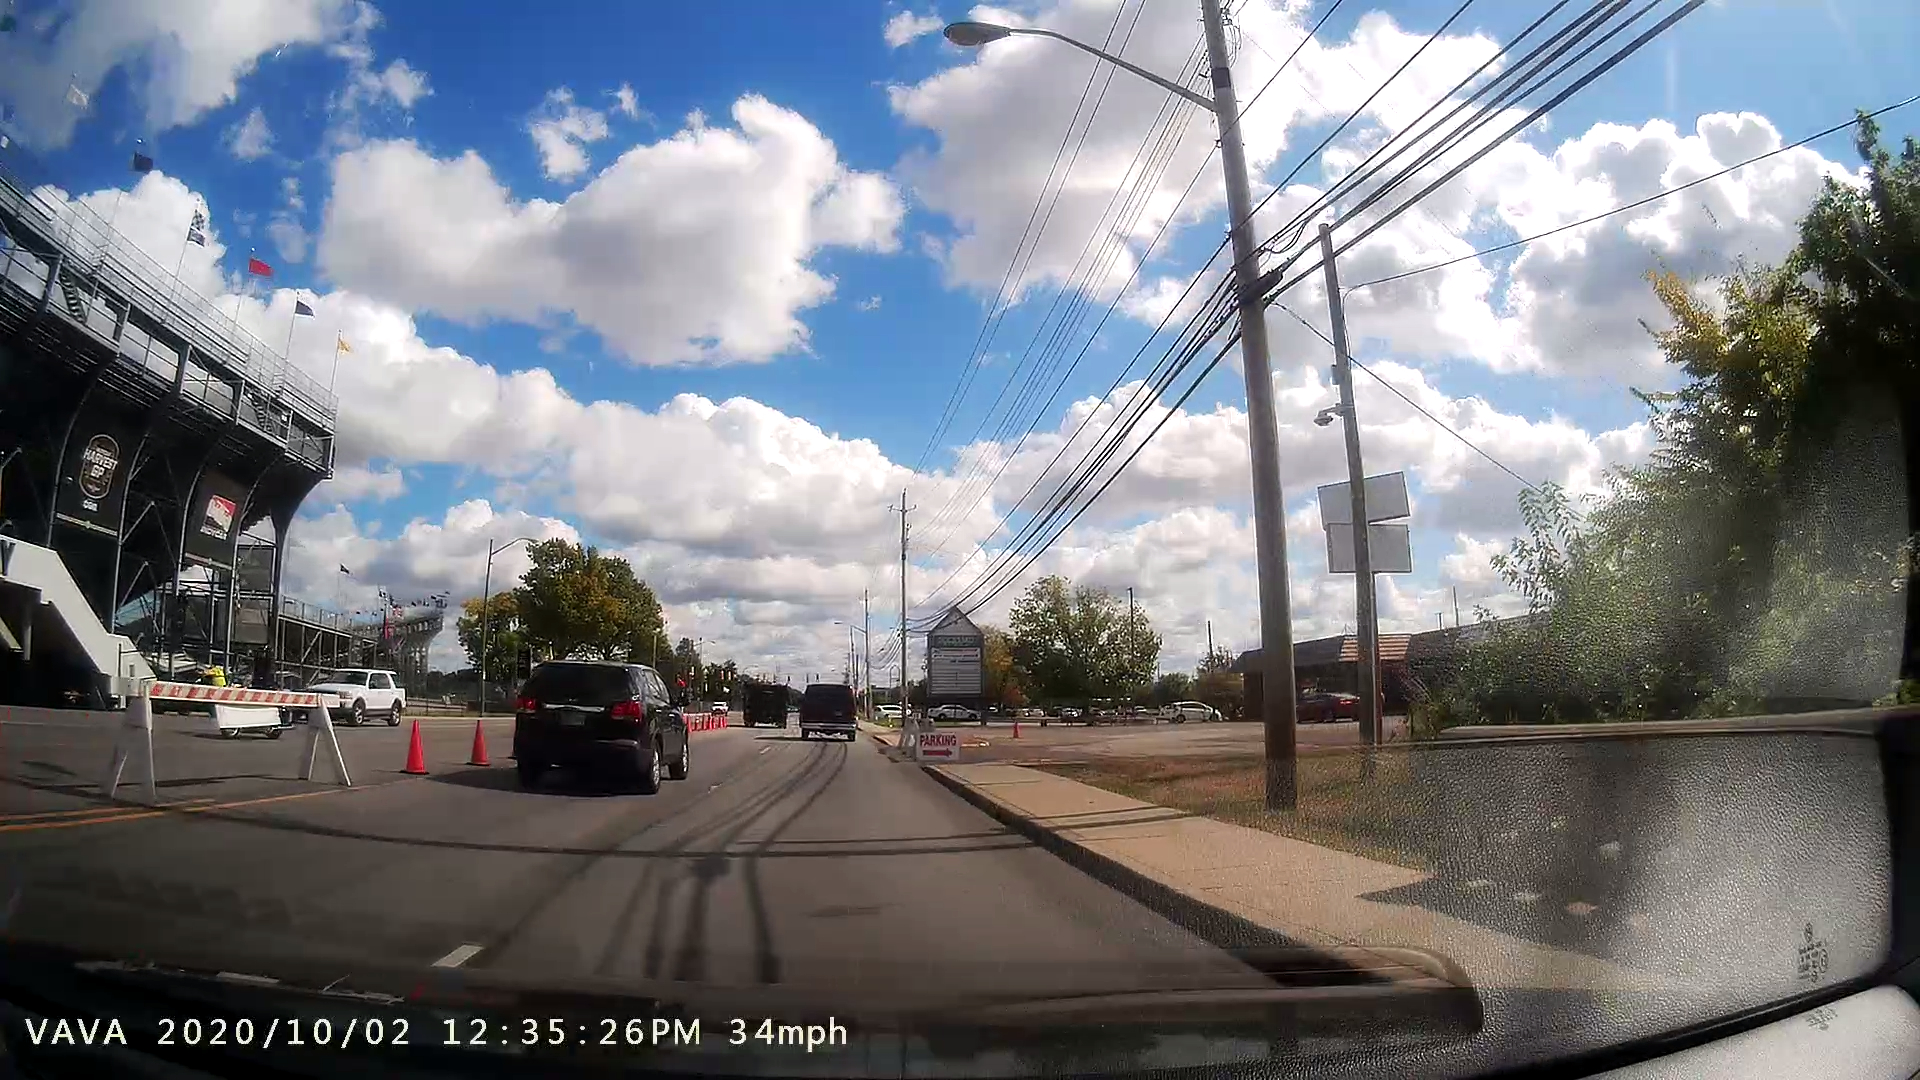const_barricade: (94, 659, 357, 794)
const_cone: (459, 709, 505, 775), (400, 711, 435, 778)
